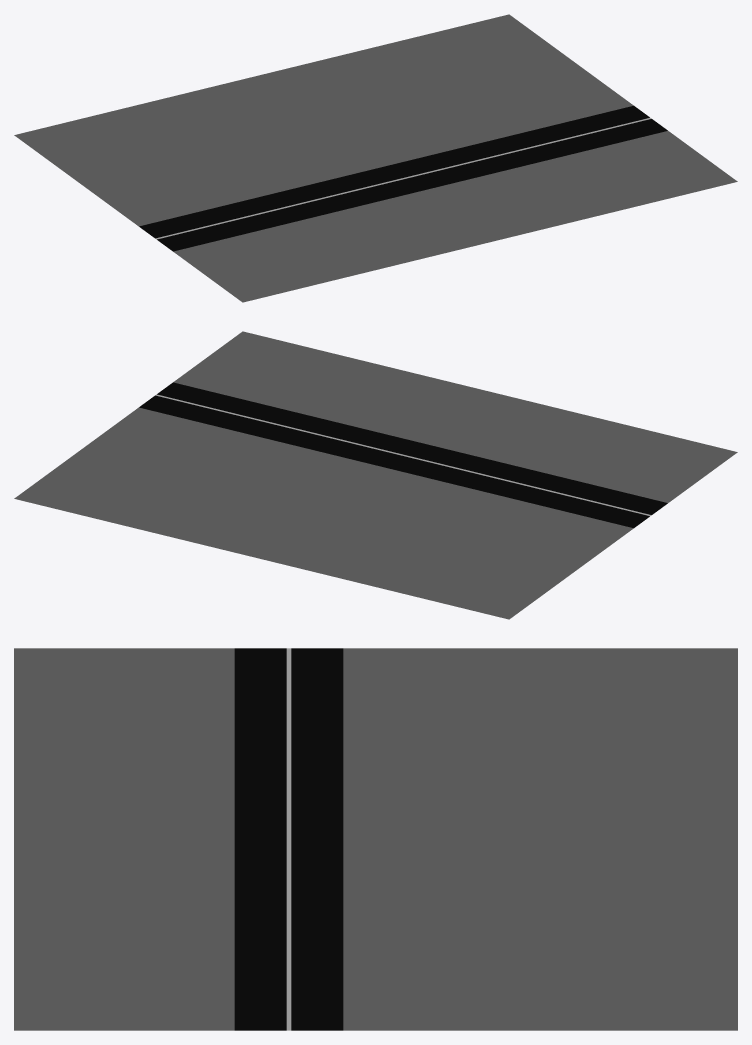
File: GasStationGround_COLOR.006.glb
3 views of the same model, one above another, from view 1: azimuth 30°, elevation 25°; view 2: azimuth 150°, elevation 25°; view 3: azimuth 270°, elevation 25° (orthographic). The views are drawn at different scales.
Parts seen in each view (by area): view 1: GasStationGround_COLOR.006_0; view 2: GasStationGround_COLOR.006_0; view 3: GasStationGround_COLOR.006_0.
Boxes of the visible parts, box(x1,y1,x2,y2) form: GasStationGround_COLOR.006_0: box(14, 14, 737, 302); GasStationGround_COLOR.006_0: box(14, 331, 737, 619); GasStationGround_COLOR.006_0: box(14, 648, 737, 1030).
Bounding box in the file's own units: 10.01 × 6.05e-07 × 8.01.
1 material, 1 textured.
